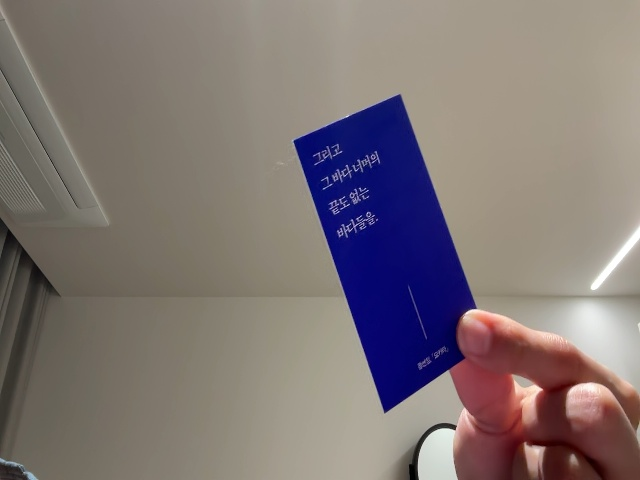card: (291, 94, 495, 413)
